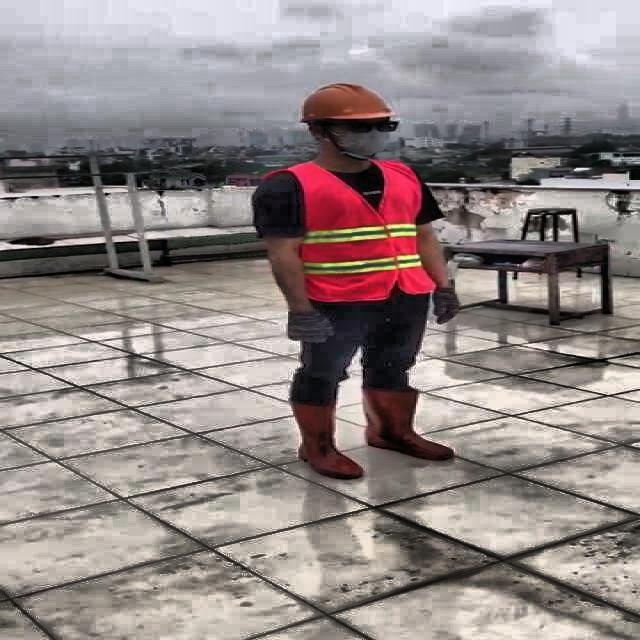safety_jacket: (263, 158, 439, 301)
